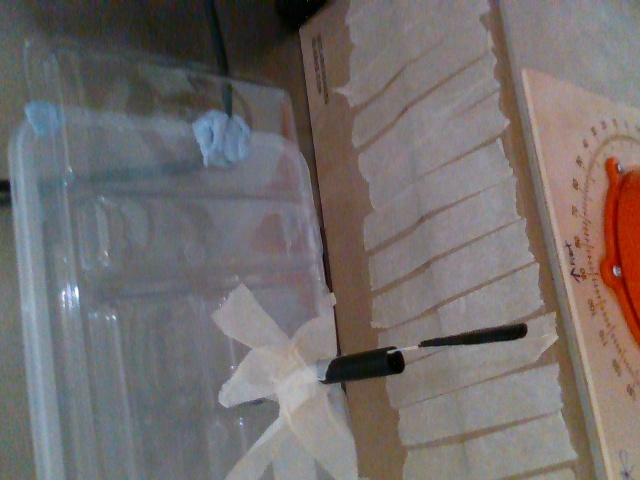test_strip: (383, 319, 525, 354)
